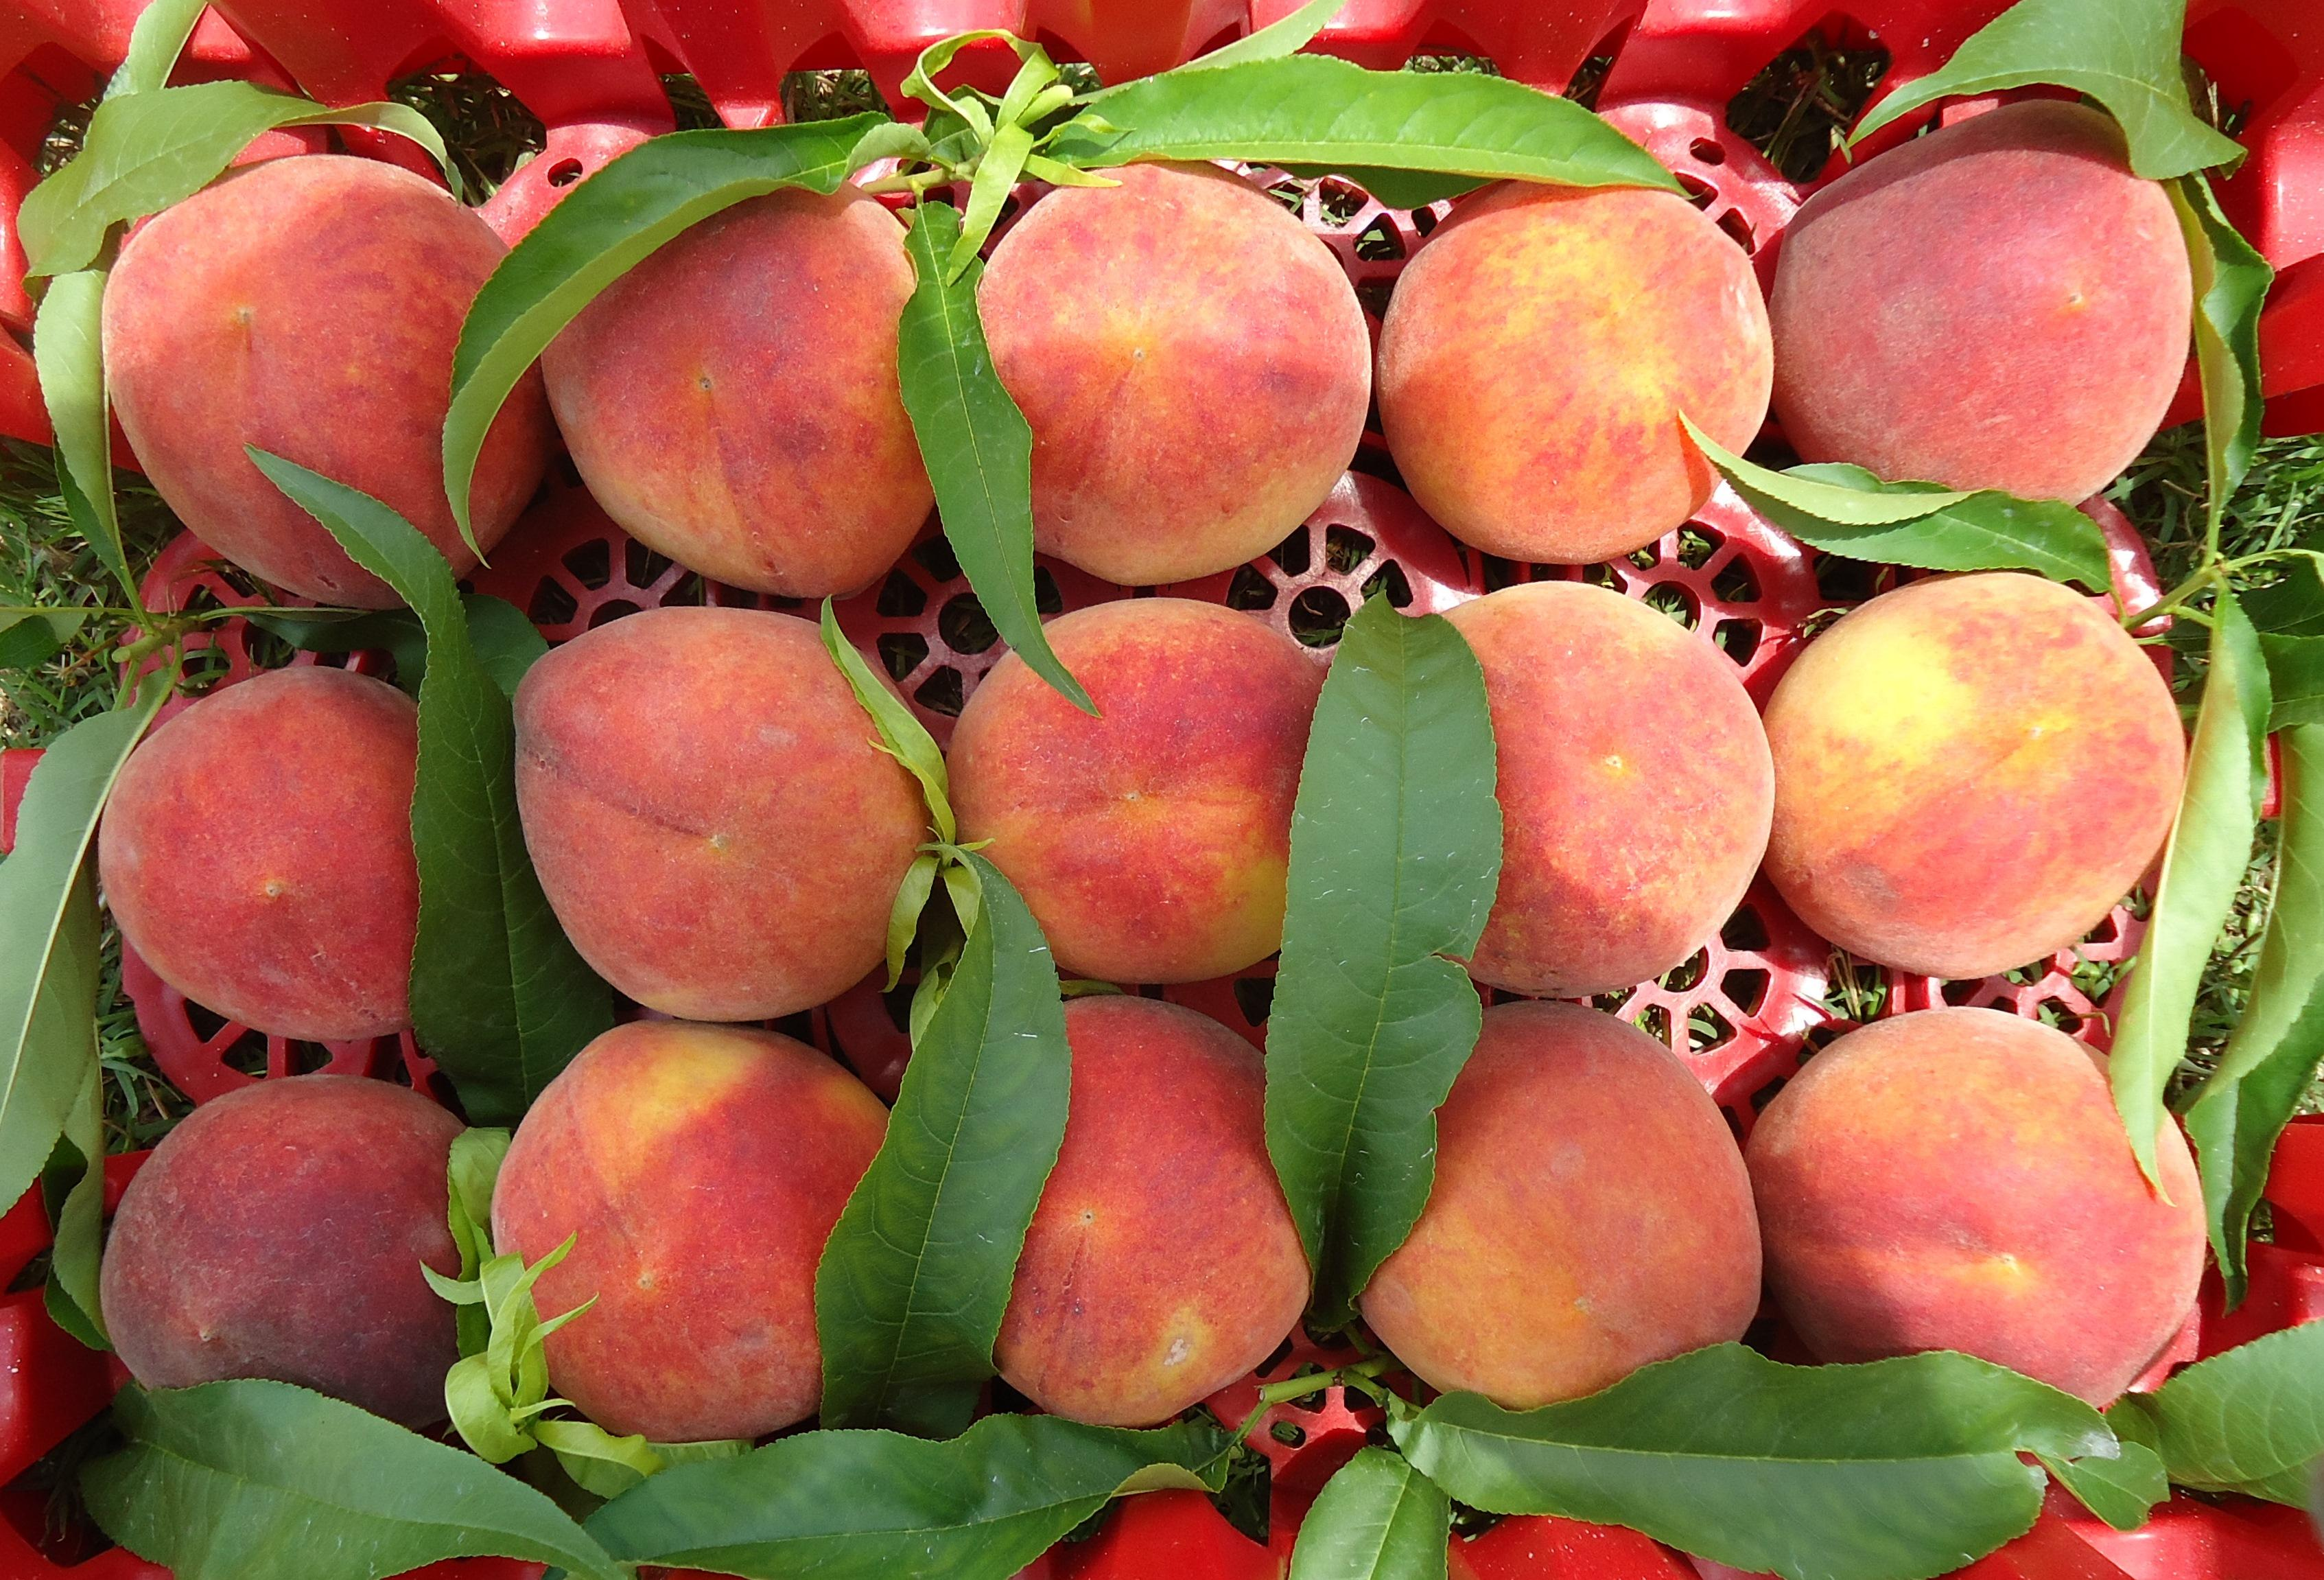Peach leaf: (252, 437, 573, 1106), (433, 99, 906, 547), (1267, 570, 1484, 1347), (795, 848, 1094, 1395), (1374, 1321, 2023, 1561), (1045, 41, 1709, 226), (890, 192, 1114, 728), (585, 1398, 1142, 1580), (118, 1384, 606, 1580), (0, 74, 435, 291), (1662, 443, 2188, 594)
